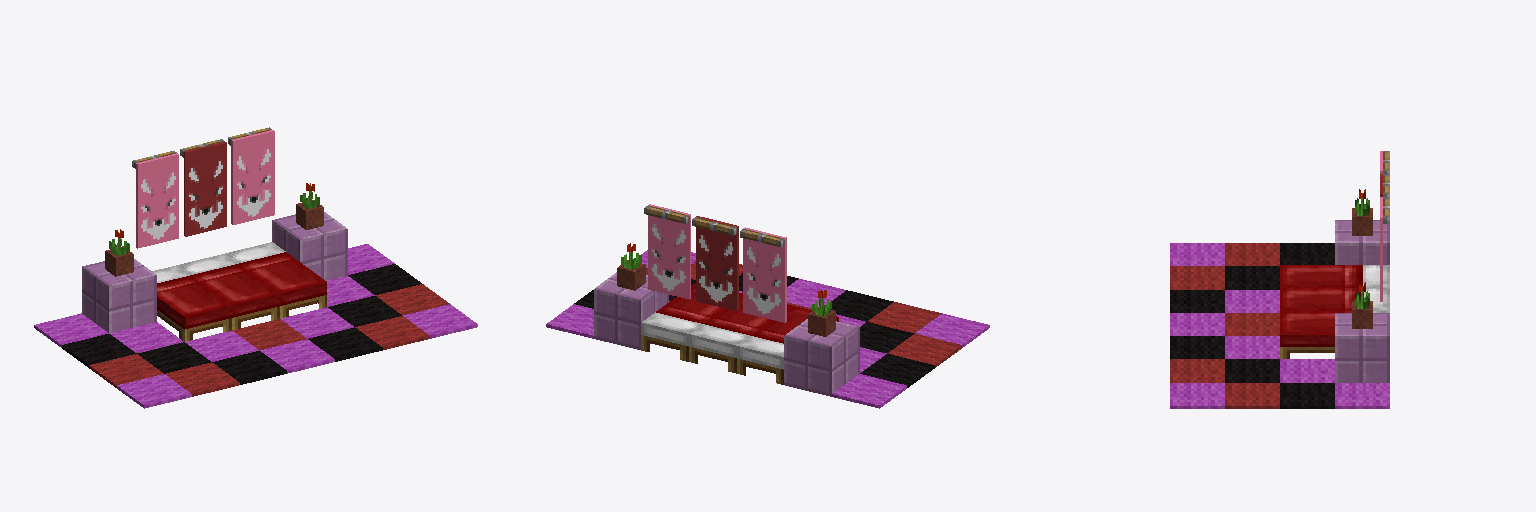
3 renders of one model, left to right at view 1: azimuth 30°, elevation 25°; view 2: azimuth 150°, elevation 25°; view 3: azimuth 270°, elevation 25°, orthographic.
Visible parts, largest first — view 1: polySurface12; view 2: polySurface12; view 3: polySurface12.
Part boxes in pixels (left/top/right/bottom): polySurface12: left=34, top=127, right=477, bottom=408; polySurface12: left=546, top=204, right=989, bottom=408; polySurface12: left=1170, top=151, right=1389, bottom=408.
Bounding box in the file's own units: 7 × 2.88 × 4.
Materials: 1 (1 with a texture image).